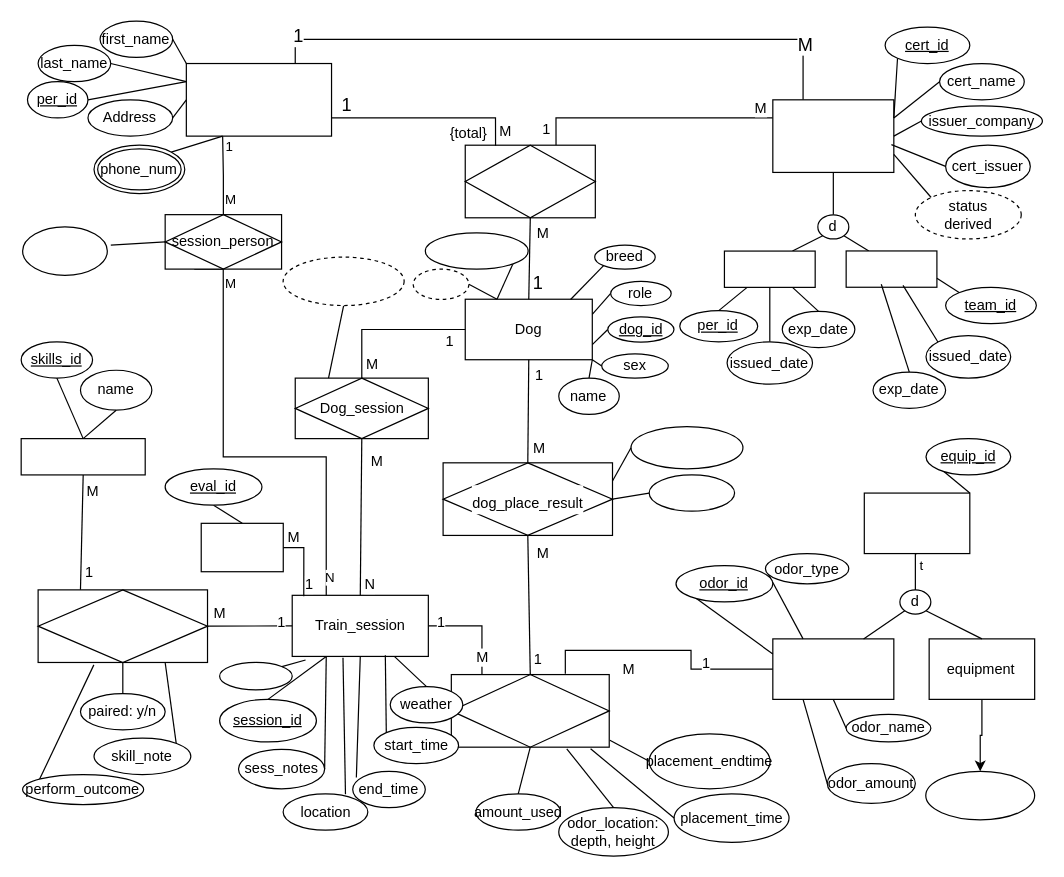
Some shapes in this 1064 by 877 pixel diagram are drawn without their labels. Here are the shapes that lost their labels. From the top down, the centre of each, then its label:
[258,99]: person
[833,135]: Certifications
[529,181]: team
[64,250]: role_type
[476,250]: date_of_birth
[769,268]: person_cert
[891,268]: team_cert
[343,281]: sessionDog: notes (optional)
[440,283]: age
[82,456]: skills
[686,447]: alert_indication
[691,492]: result_id
[916,523]: equipment _inventory
[241,547]: Eval
[122,625]: session_skill
[255,675]: date
[833,668]: odor
[529,710]: session_odor_placement
[980,795]: purchase_date
